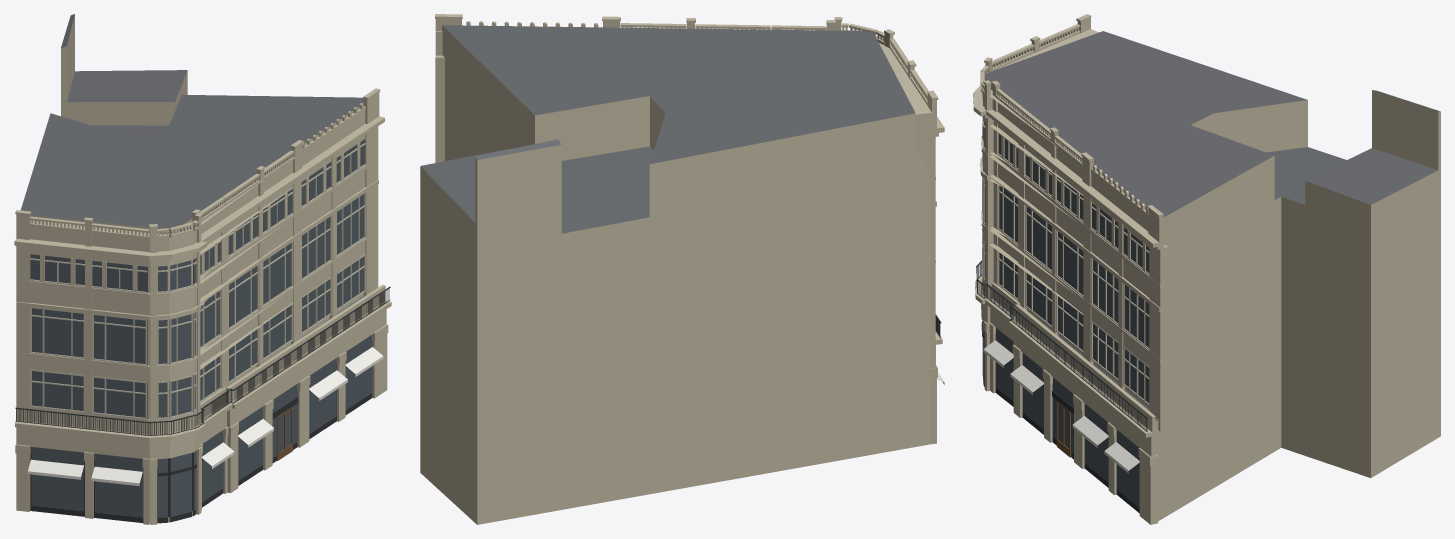
File: broekmans-koningsplein.glb
3 renders of one model, left to right at view 1: azimuth 30°, elevation 25°; view 2: azimuth 150°, elevation 25°; view 3: azimuth 270°, elevation 25°, orthographic. The views are drawn at different scales.
Visible parts, largest first — view 1: broekmans-koningsplein; view 2: broekmans-koningsplein; view 3: broekmans-koningsplein.
Part boxes in pixels (x1,y1,x2,y2): broekmans-koningsplein: (14, 14, 391, 524); broekmans-koningsplein: (420, 14, 944, 524); broekmans-koningsplein: (973, 14, 1440, 524).
Size of the model in its own units: 27.22 by 20.26 by 26.21.
